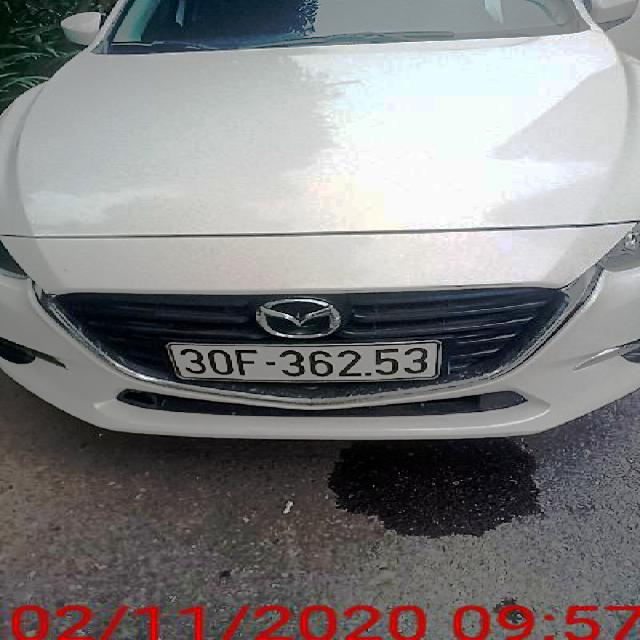license_plate: (173, 343, 441, 380)
